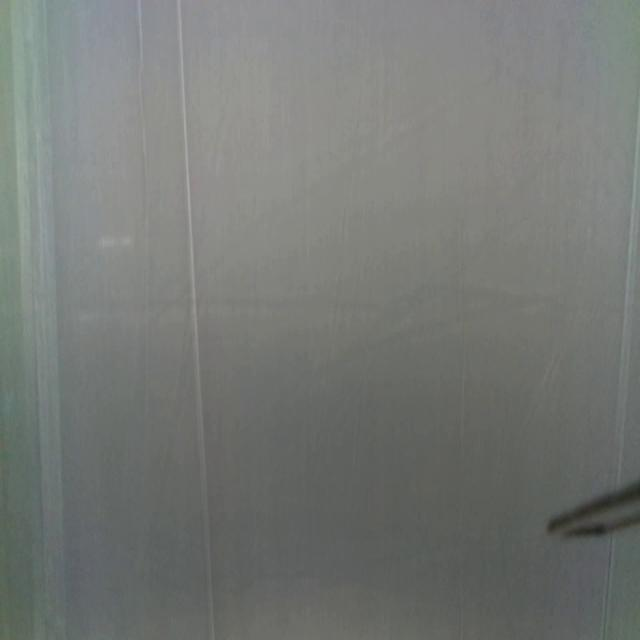crease: (11, 0, 66, 639), (178, 0, 216, 640), (614, 97, 640, 479), (137, 0, 152, 439), (599, 538, 615, 640)
